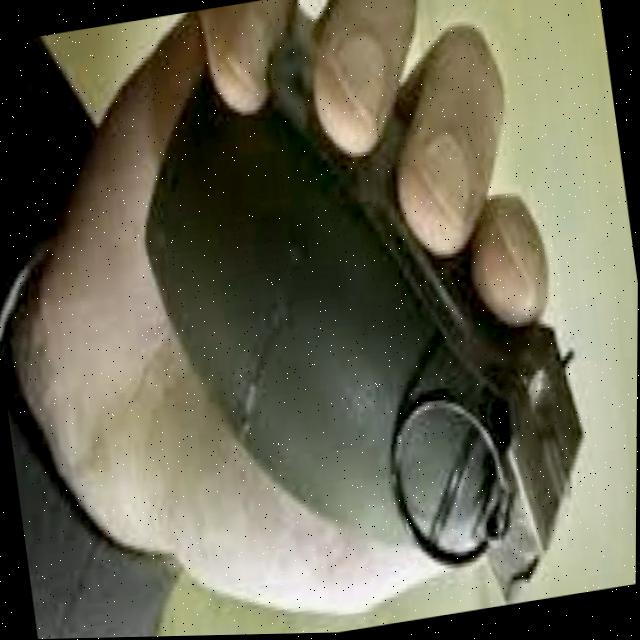grenade: (87, 0, 605, 638)
